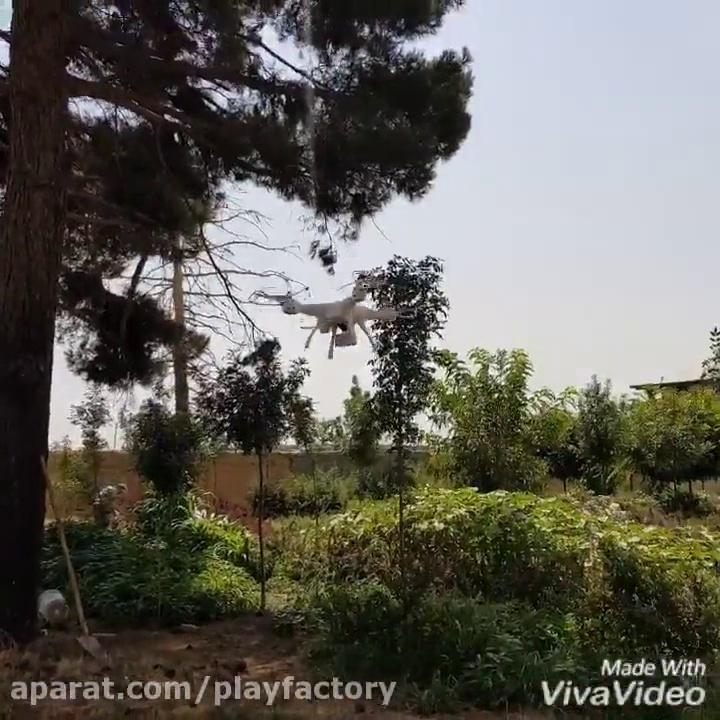drone: (247, 270, 422, 360)
